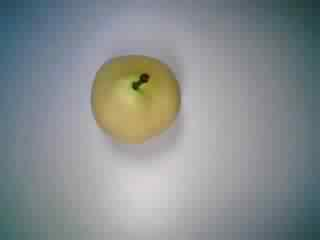pear: (77, 48, 182, 151)
